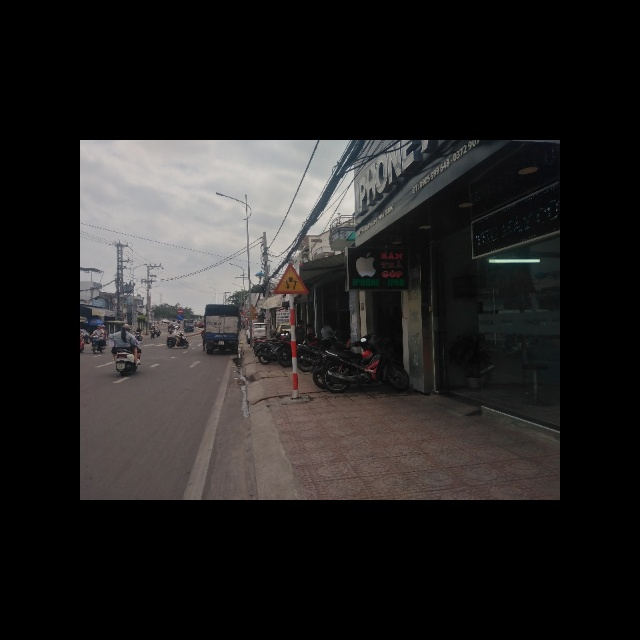Đường đôi: (273, 262, 310, 295)
